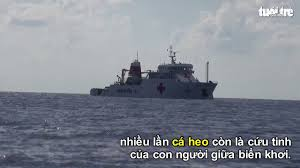tau_dansu: (78, 56, 221, 103)
